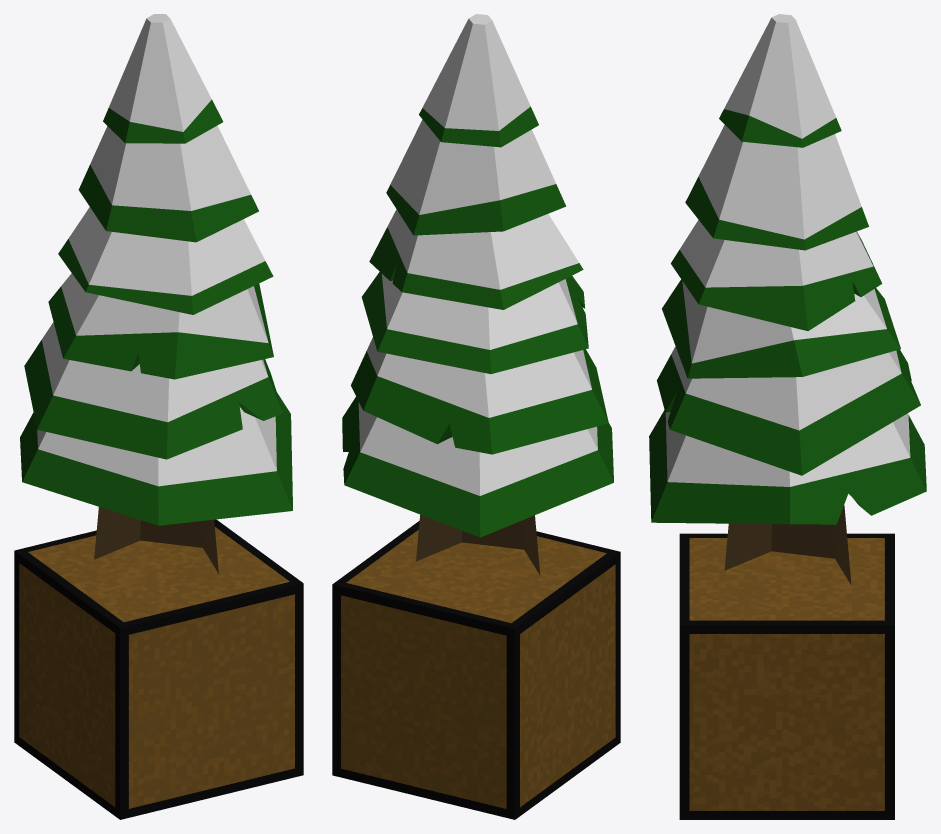
The model's file is PineTree2.glb.
3 renders of one model, left to right at view 1: azimuth 30°, elevation 25°; view 2: azimuth 150°, elevation 25°; view 3: azimuth 270°, elevation 25°, orthographic. The views are drawn at different scales.
Visible parts, largest first — view 1: Pine, DirtBaked; view 2: Pine, DirtBaked; view 3: Pine, DirtBaked.
Part boxes in pixels (<box>): Pine: <box>20,14,292,573</box>; DirtBaked: <box>14,519,303,819</box>; Pine: <box>342,14,613,575</box>; DirtBaked: <box>332,521,620,819</box>; Pine: <box>649,14,926,584</box>; DirtBaked: <box>679,533,894,819</box>.
Size of the model in its own units: 1.45 by 3.79 by 1.26.
4 materials, 1 textured.
